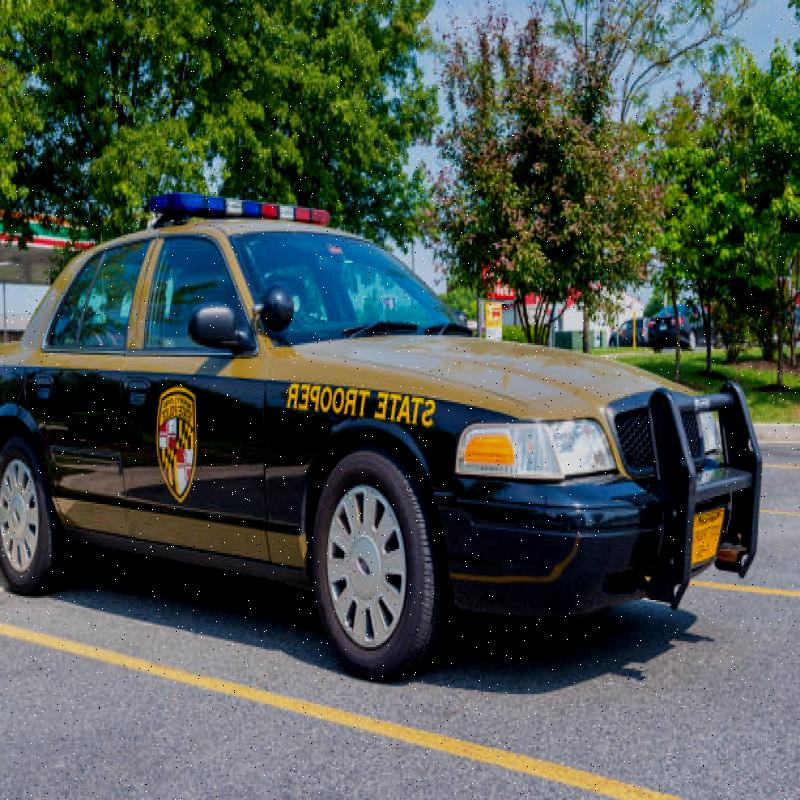AmbulanceSiren: (148, 161, 341, 233)
